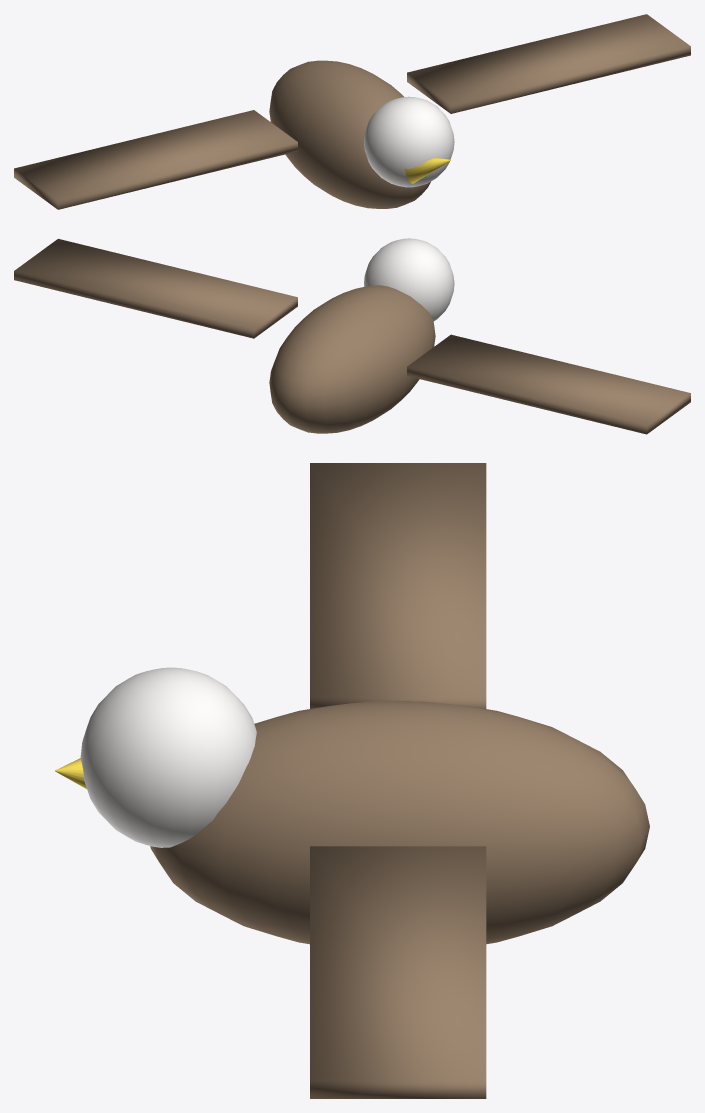
File: eagle.glb
3 renders of one model, top to bottom at view 1: azimuth 30°, elevation 25°; view 2: azimuth 150°, elevation 25°; view 3: azimuth 270°, elevation 25°, orthographic. The views are drawn at different scales.
Visible parts, largest first — view 1: wing_l, wing_r, body, head, beak; view 2: body, wing_r, wing_l, head; view 3: body, wing_r, wing_l, head.
Boxes of the visible parts, box(x1,y1,x2,y2) form: wing_l: box(14, 110, 297, 209); wing_r: box(407, 14, 690, 113); body: box(269, 60, 430, 208); head: box(364, 96, 454, 187); beak: box(404, 158, 450, 183); body: box(269, 285, 435, 433); wing_r: box(14, 239, 297, 338); wing_l: box(407, 334, 690, 434); head: box(364, 238, 454, 321); body: box(150, 700, 649, 944); wing_r: box(310, 846, 486, 1098); wing_l: box(310, 463, 486, 708); head: box(80, 667, 256, 847).
Bounding box in the file's own units: 2.9 × 0.58 × 1.18.
